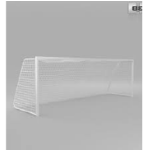goals: (13, 55, 138, 117)
